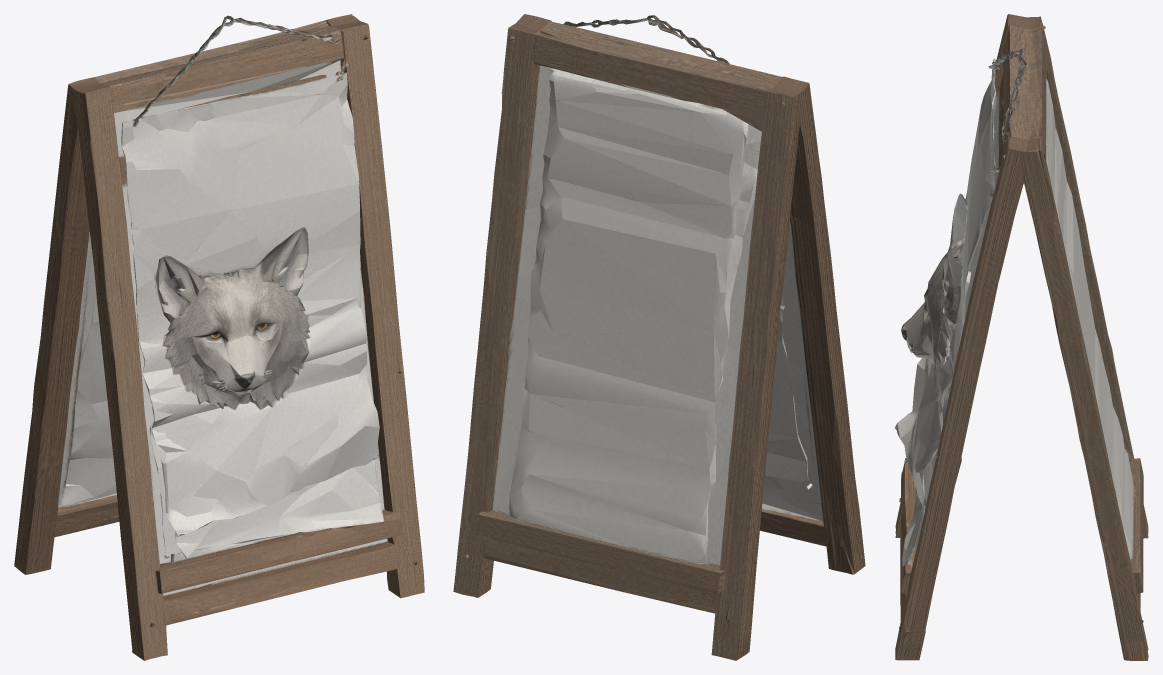
The picture shows the model from 3 angles, left to right: view 1: azimuth 30°, elevation 25°; view 2: azimuth 150°, elevation 25°; view 3: azimuth 270°, elevation 25°; orthographic projection. The views are drawn at different scales.
Bounding box in the file's own units: 1.01 × 1.9 × 0.8003.
1 material, 1 textured.
